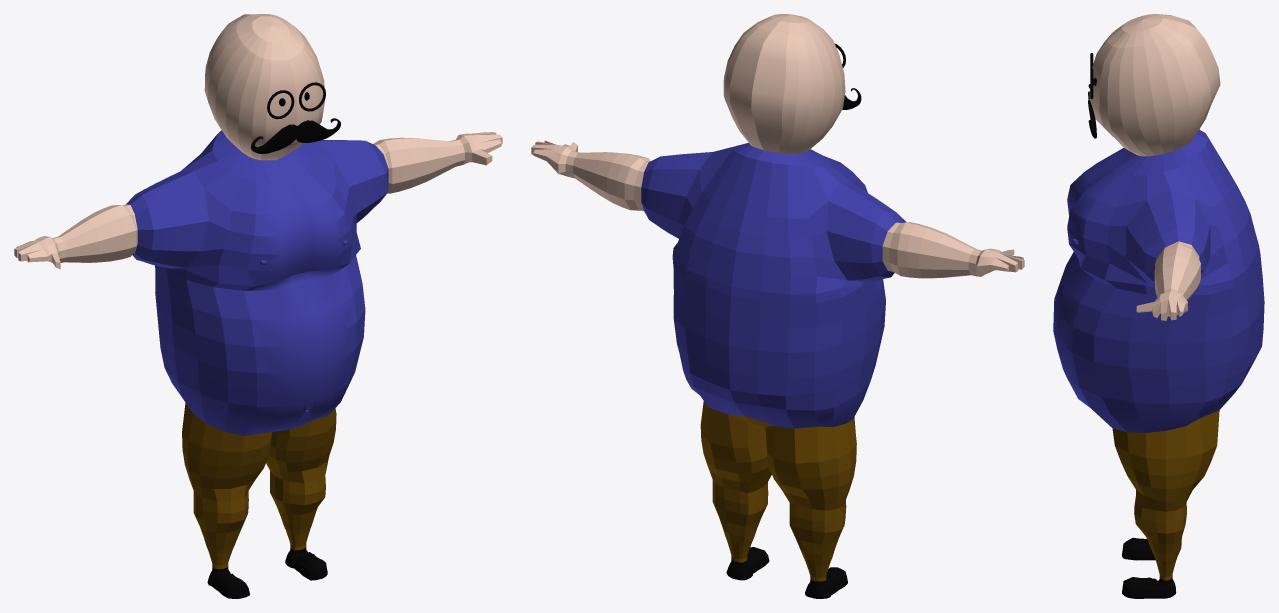
File: dad.fbx
3 views of the same model, side by side, from view 1: azimuth 30°, elevation 25°; view 2: azimuth 150°, elevation 25°; view 3: azimuth 270°, elevation 25° (orthographic).
Parts seen in each view (by area): view 1: polySurface4; view 2: polySurface4; view 3: polySurface4.
Boxes of the visible parts, box(x1,y1,x2,y2) form: polySurface4: box(14, 14, 502, 598); polySurface4: box(531, 14, 1024, 598); polySurface4: box(1053, 14, 1264, 598).
Size of the model in its own units: 6.19 by 6.87 by 2.36.
